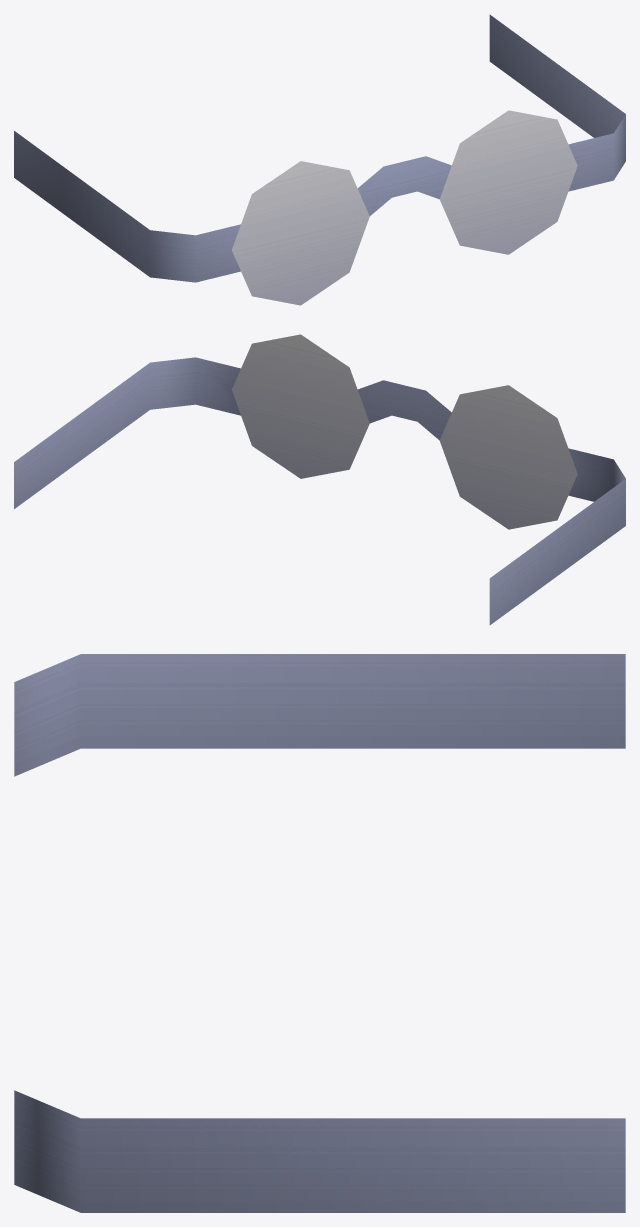
Rendered from aid-glasses.glb.
The picture shows the model from 3 angles, top to bottom: view 1: azimuth 30°, elevation 25°; view 2: azimuth 150°, elevation 25°; view 3: azimuth 270°, elevation 25°; orthographic projection. The views are drawn at different scales.
Visible parts, largest first — view 1: aid-glasses; view 2: aid-glasses; view 3: aid-glasses.
Part boxes in pixels (<box>): aid-glasses: <box>14,14,625,305</box>; aid-glasses: <box>14,334,625,625</box>; aid-glasses: <box>14,654,625,1212</box>.
Bounding box in the file's own units: 0.33 × 0.0958 × 0.1836.
1 material, 1 textured.
